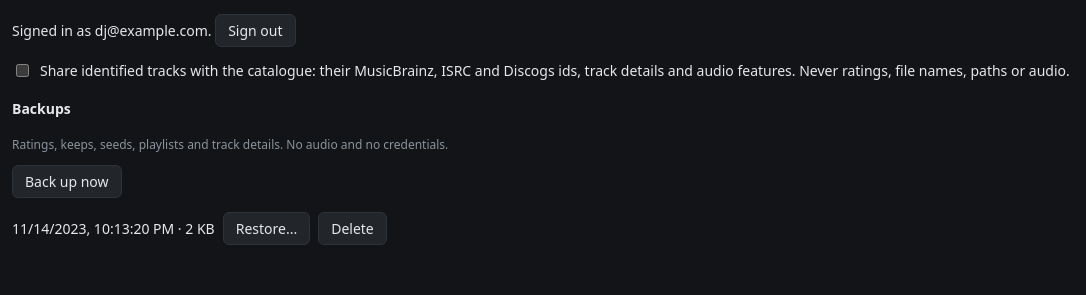
Test: asks before restoring and reports tracks to relink
Click the button "Restore...". click: (266, 229)
box: [223,212,310,245]
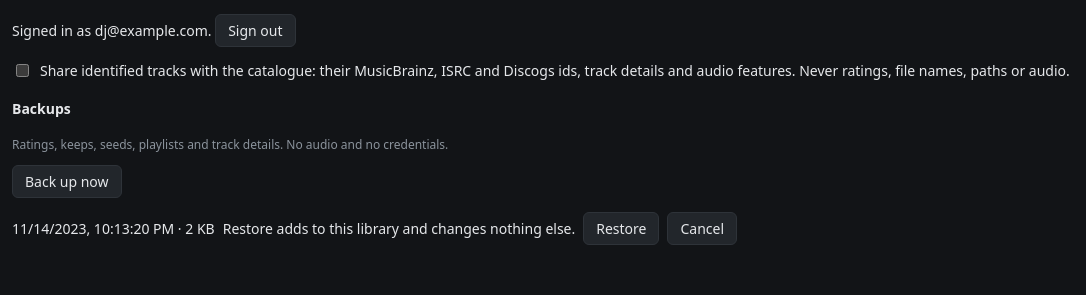
Click the button "Restore". click: (621, 229)
box: [583,212,660,245]
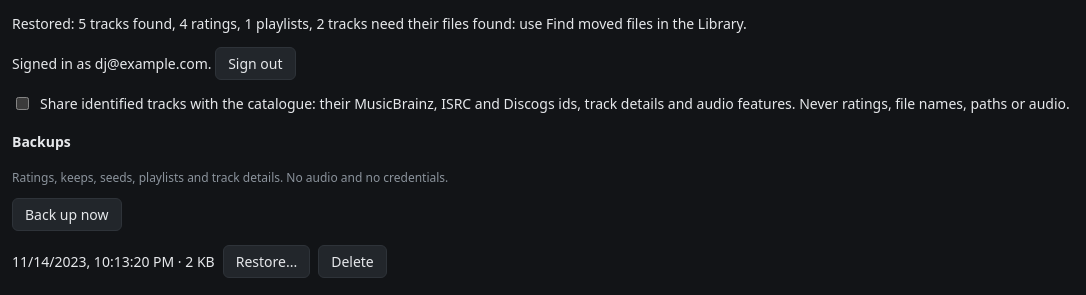
Now the text "2 tracks need their files found" is shown, box [12,14,747,33]
